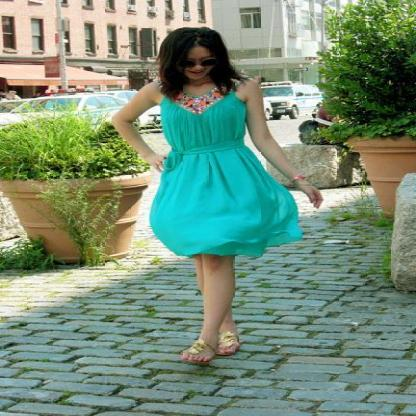dress: (150, 86, 311, 257)
shoe: (198, 336, 230, 357)
